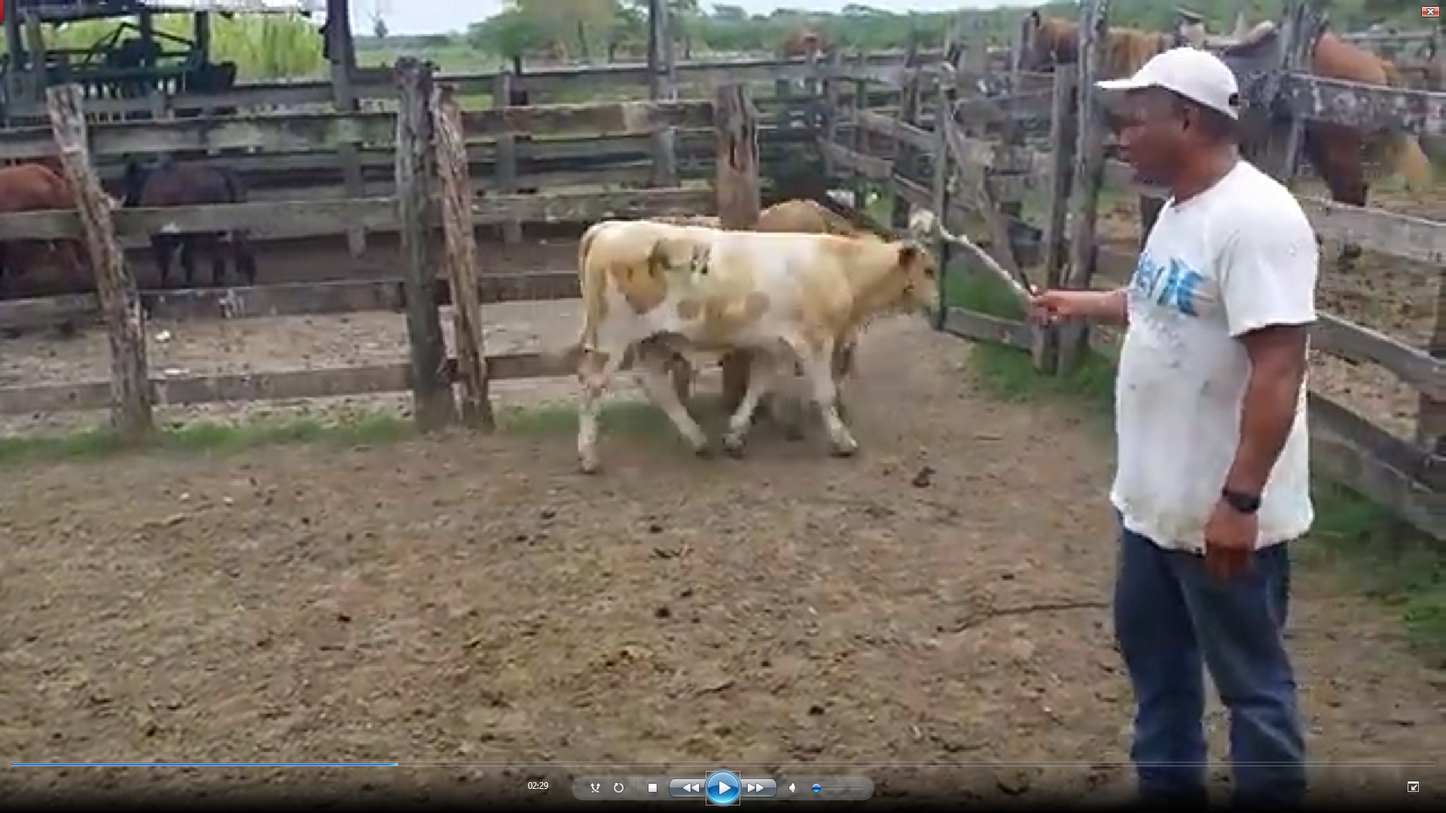bovino: (577, 221, 939, 471)
